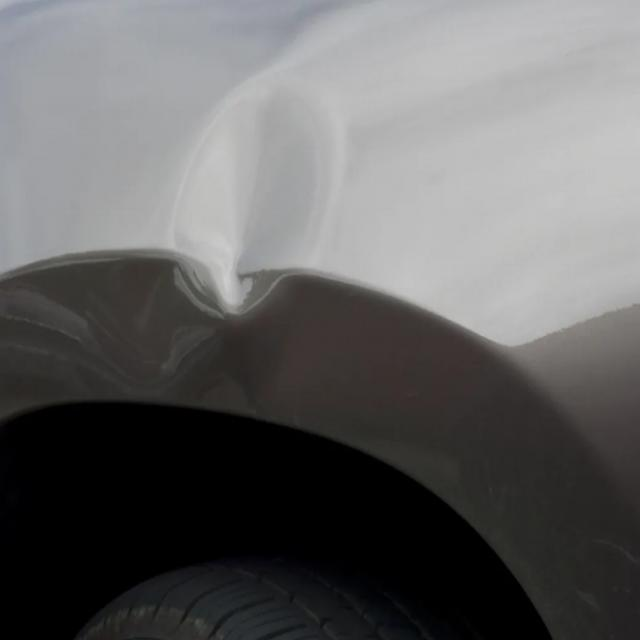dents: (169, 63, 345, 328)
